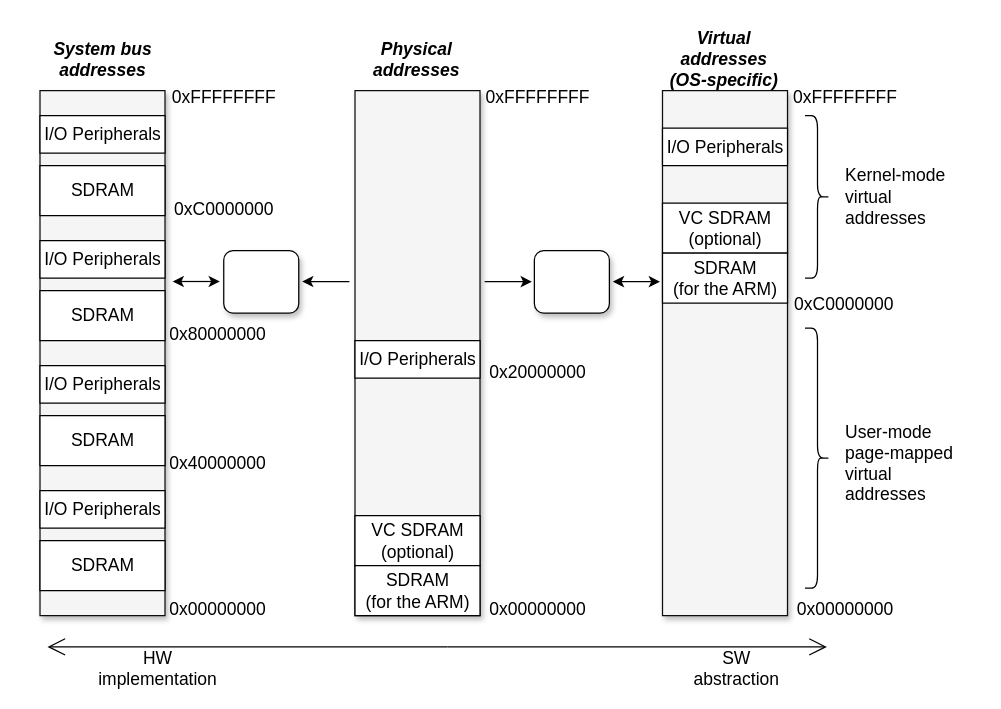
Some shapes in this 1001 by 709 pixel diagram are drawn without their labels. Each missing label, with the centre of its shape:
"ARM MMU" goes at [572,283].
"VC/ARM MMU" goes at [262,283].
